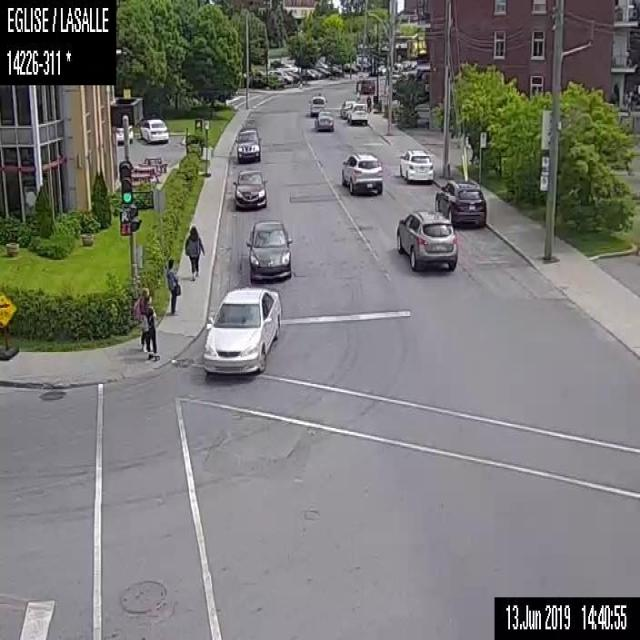pedestrian: (183, 224, 204, 280), (133, 285, 151, 350), (144, 292, 158, 363), (164, 256, 181, 313), (365, 92, 372, 112)
vehicle: (201, 284, 282, 373), (394, 209, 458, 271), (432, 176, 488, 230), (245, 216, 290, 280), (340, 151, 384, 195), (232, 166, 266, 210), (399, 148, 435, 184), (234, 124, 262, 163), (138, 117, 169, 144), (314, 106, 334, 131), (348, 104, 368, 125), (269, 68, 294, 84), (340, 98, 360, 118), (310, 94, 326, 117), (114, 124, 132, 144), (356, 78, 374, 94), (342, 62, 358, 74), (302, 68, 314, 80)
